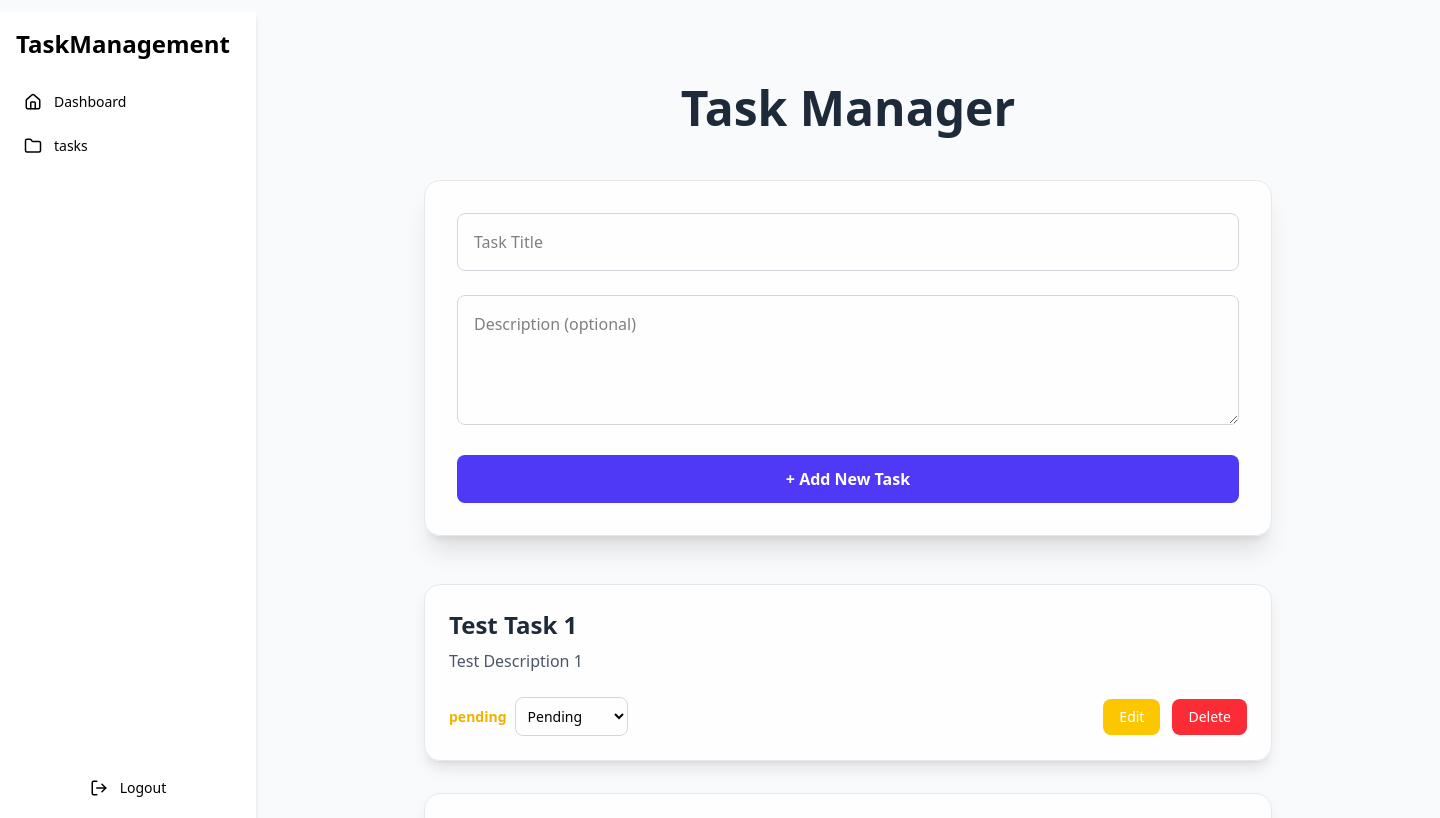
Tasks Page › cancels edit task
Click the button "Edit".
click(1132, 716)  # box [1103,698,1160,734]
(page scrolled)
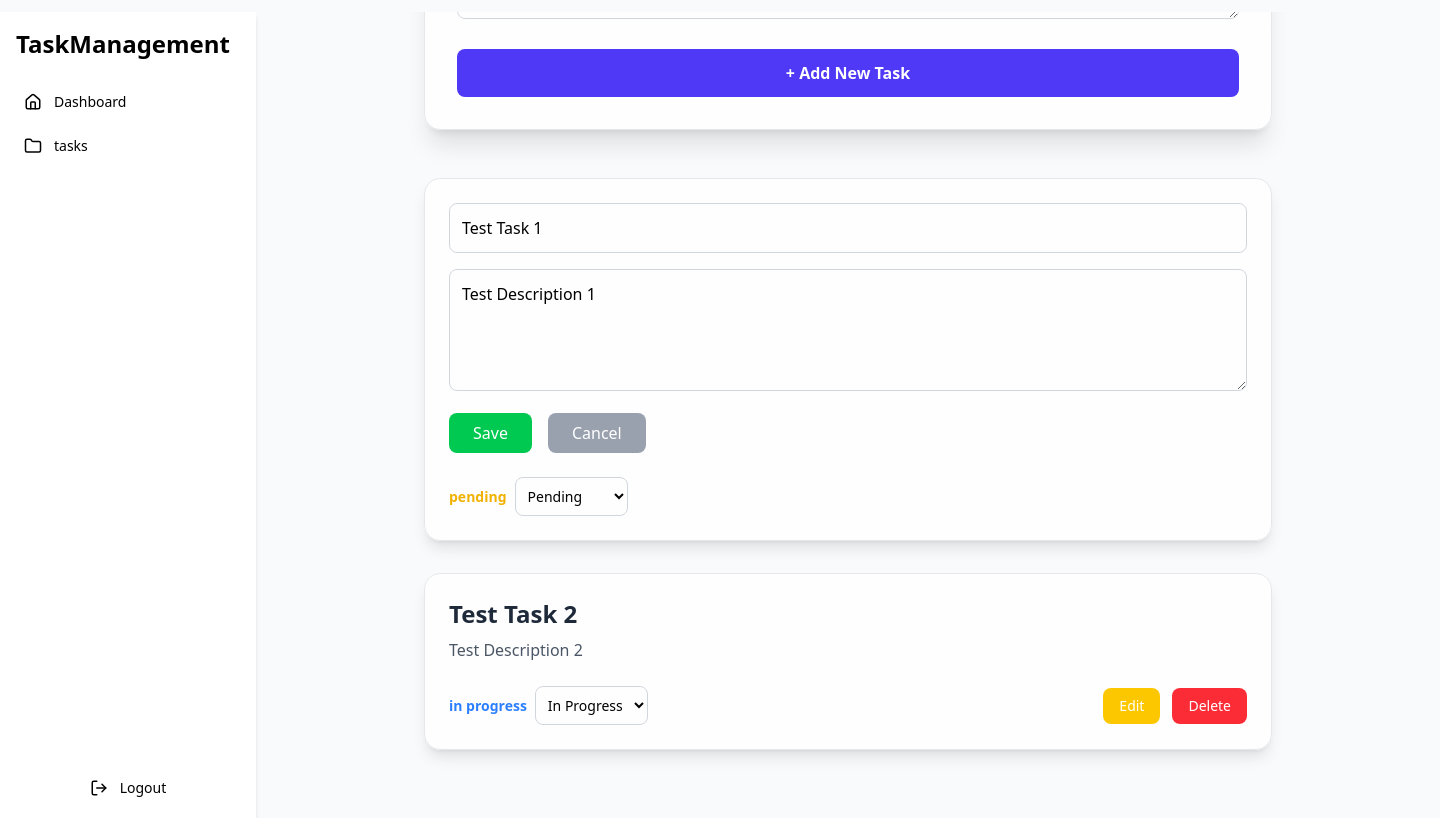
Click the button "Cancel".
click(597, 433)  # box [548,413,646,453]
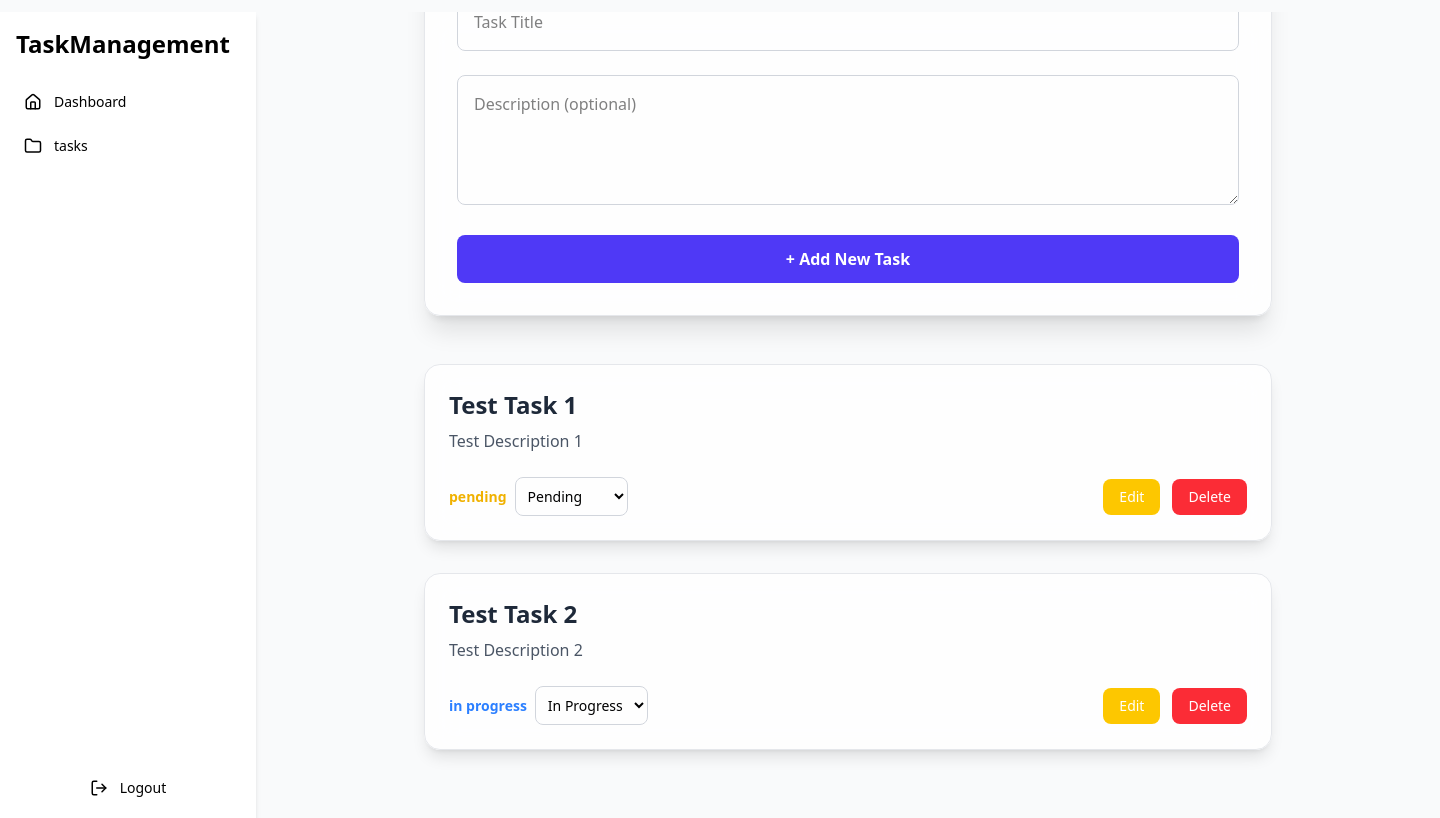
Expected: the button "Save" is gone
